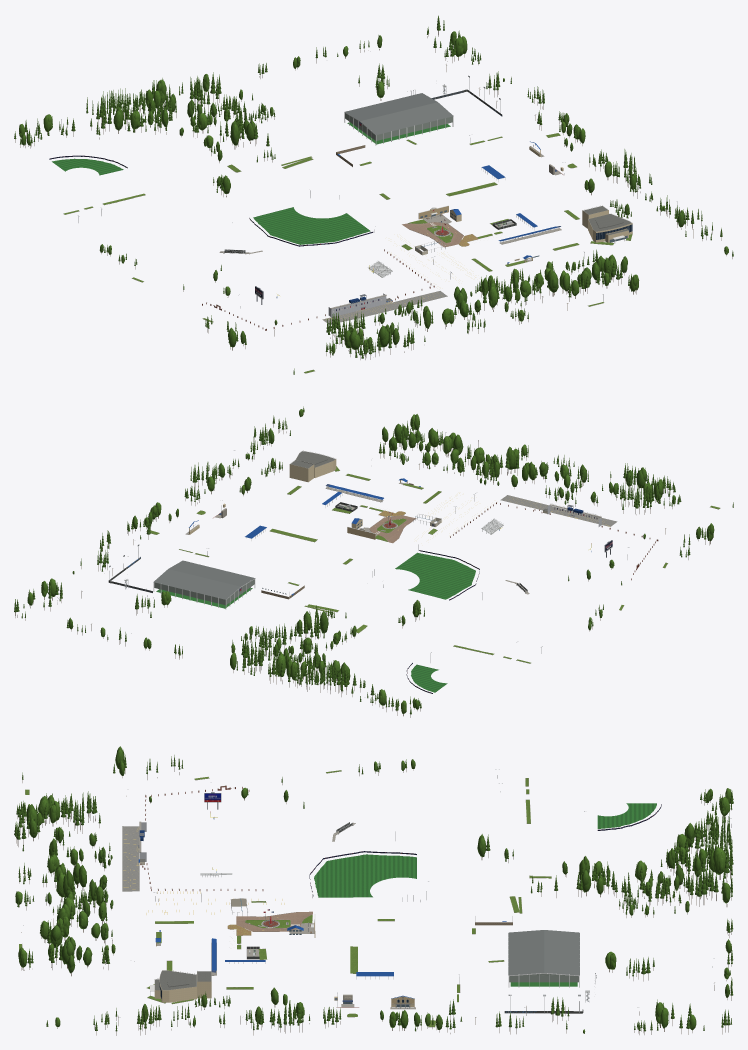
File: wmhs-v3-partC-v3details-trees-poles-mobile.glb
3 views of the same model, one above another, from view 1: azimuth 30°, elevation 25°; view 2: azimuth 150°, elevation 25°; view 3: azimuth 270°, elevation 25° (orthographic). The views are drawn at different scales.
Visible parts, largest first — view 1: V3_BallFields_Turf_Windscreen, V3_CoveredPracticePavilion_2026, V3_FrontEntry_FlagIsland_Loop, V3_LotIslands_Curbed, V5_Arena_CurvedFront, V3_Stadium_FencesGates_GrandstandWall_Banners_VideoBoard, V3_TravisLot_Stripes; view 2: V3_CoveredPracticePavilion_2026, V3_BallFields_Turf_Windscreen, V3_FrontEntry_FlagIsland_Loop, V3_LotIslands_Curbed, V5_Arena_CurvedFront, V3_TravisLot_Stripes, V3_Stadium_FencesGates_GrandstandWall_Banners_VideoBoard; view 3: V3_BallFields_Turf_Windscreen, V3_CoveredPracticePavilion_2026, V5_Arena_CurvedFront, V3_FrontEntry_FlagIsland_Loop, V3_LotIslands_Curbed, V3_TravisLot_Stripes, V3_Stadium_FencesGates_GrandstandWall_Banners_VideoBoard.
Part boxes in pixels (bbox=[...]): V3_BallFields_Turf_Windscreen: bbox=[49, 155, 373, 246]; V3_CoveredPracticePavilion_2026: bbox=[344, 93, 453, 145]; V3_FrontEntry_FlagIsland_Loop: bbox=[402, 205, 478, 251]; V3_LotIslands_Curbed: bbox=[63, 133, 632, 373]; V5_Arena_CurvedFront: bbox=[582, 205, 632, 243]; V3_Stadium_FencesGates_GrandstandWall_Banners_VideoBoard: bbox=[202, 249, 434, 330]; V3_TravisLot_Stripes: bbox=[322, 291, 447, 324]; V3_CoveredPracticePavilion_2026: bbox=[153, 560, 255, 609]; V3_BallFields_Turf_Windscreen: bbox=[395, 550, 479, 693]; V3_FrontEntry_FlagIsland_Loop: bbox=[347, 510, 441, 543]; V3_LotIslands_Curbed: bbox=[146, 466, 720, 663]; V5_Arena_CurvedFront: bbox=[289, 450, 336, 482]; V3_TravisLot_Stripes: bbox=[500, 495, 617, 526]; V3_Stadium_FencesGates_GrandstandWall_Banners_VideoBoard: bbox=[450, 502, 658, 580]; V3_BallFields_Turf_Windscreen: bbox=[309, 803, 661, 897]; V3_CoveredPracticePavilion_2026: bbox=[508, 930, 579, 987]; V5_Arena_CurvedFront: bbox=[150, 970, 211, 1002]; V3_FrontEntry_FlagIsland_Loop: bbox=[227, 898, 315, 937]; V3_LotIslands_Curbed: bbox=[19, 770, 551, 1027]; V3_TravisLot_Stripes: bbox=[122, 826, 139, 891]; V3_Stadium_FencesGates_GrandstandWall_Banners_VideoBoard: bbox=[138, 785, 263, 890].
Bounding box in the file's own units: 565 × 38.13 × 645.
Materials: 85 (55 with a texture image).
